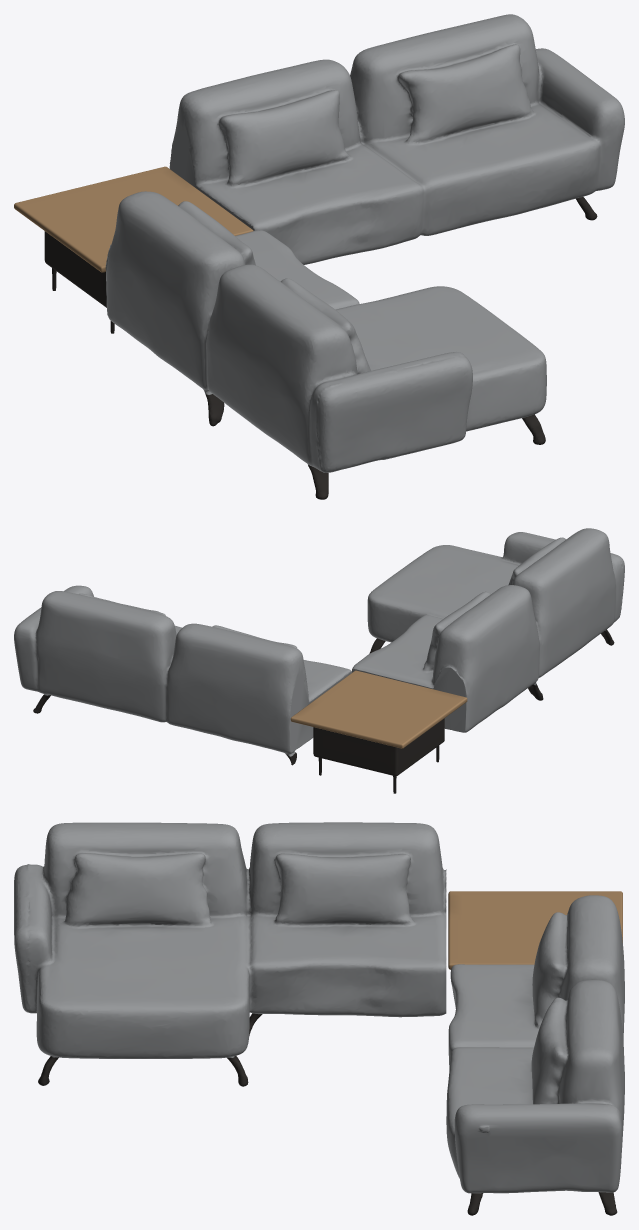
Rendered from lazio-canto-308-esq.glb.
3 views of the same model, one above another, from view 1: azimuth 30°, elevation 25°; view 2: azimuth 150°, elevation 25°; view 3: azimuth 270°, elevation 25° (orthographic). The views are drawn at different scales.
Parts seen in each view (by area): view 1: Sofa; view 2: Sofa; view 3: Sofa.
Boxes of the visible parts, bbox=[...] form: Sofa: bbox=[14, 14, 624, 499]; Sofa: bbox=[14, 528, 624, 793]; Sofa: bbox=[14, 822, 624, 1215].
Size of the model in its own units: 3.08 by 0.88 by 3.08.
